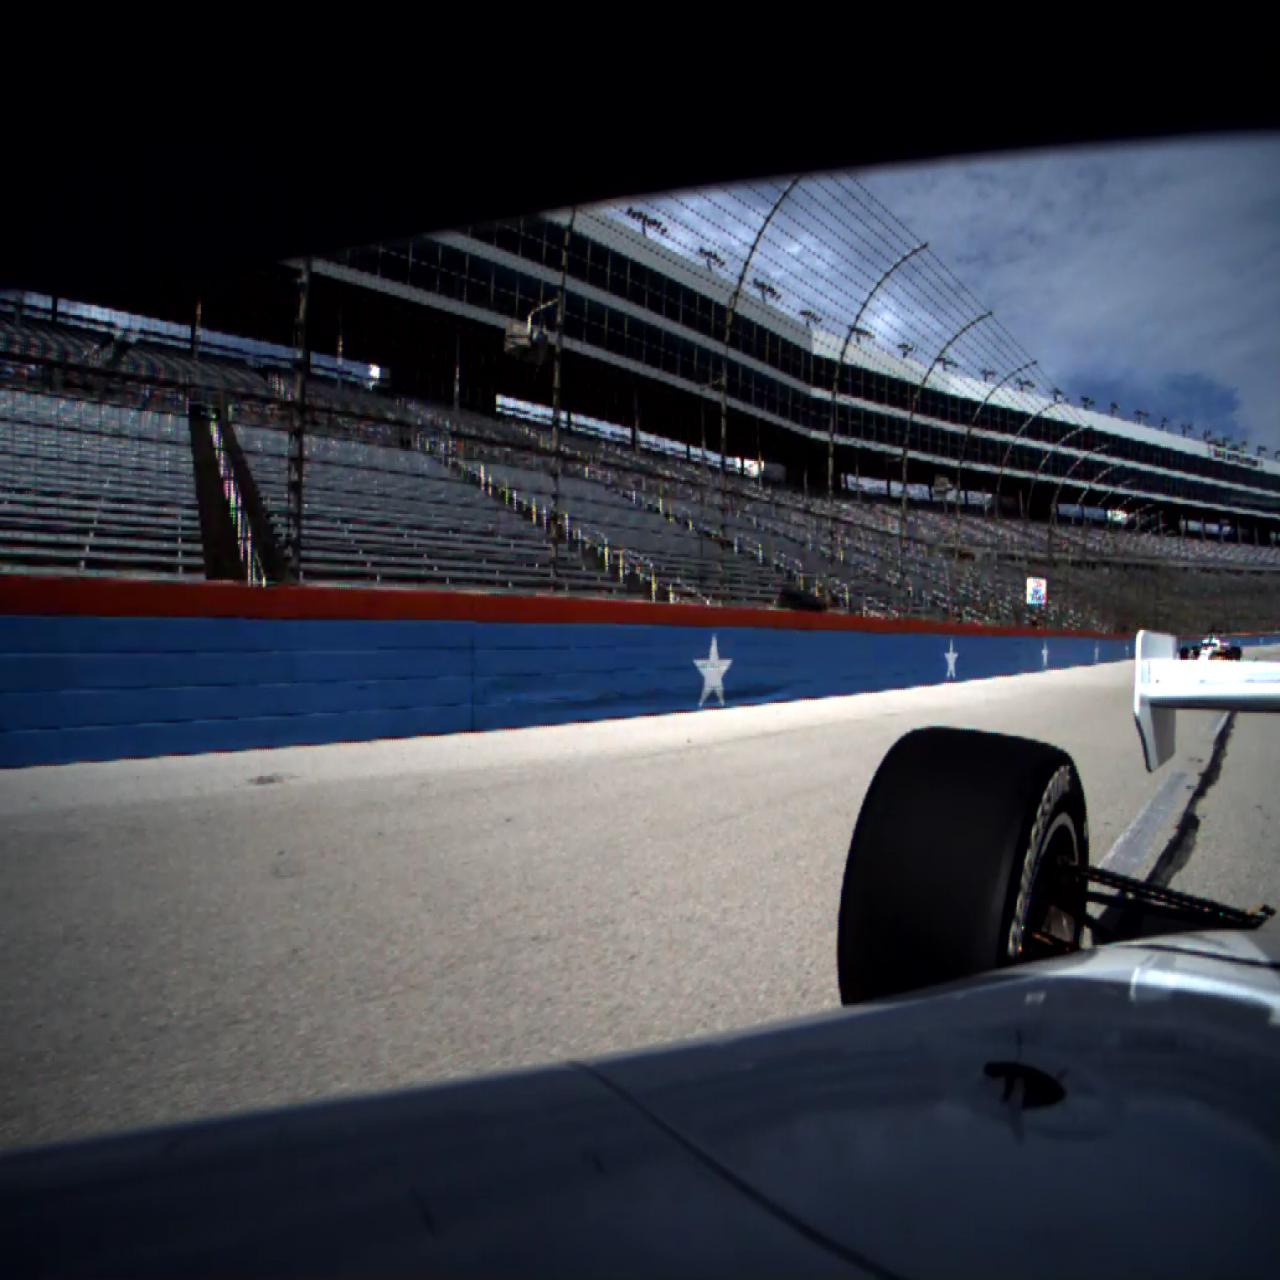AV: (1180, 630, 1242, 660)
Wheel: (837, 725, 1091, 1019), (1232, 647, 1241, 660), (1180, 648, 1188, 659)
